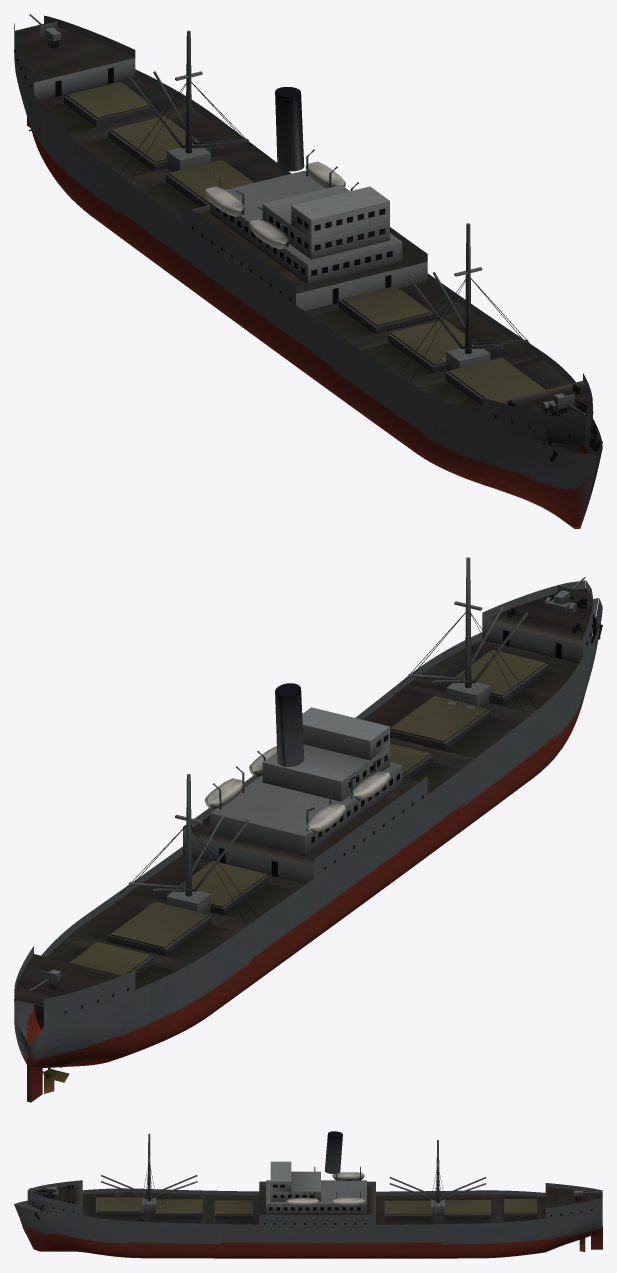
The model's file is model_built.glb.
3 renders of one model, top to bottom at view 1: azimuth 30°, elevation 25°; view 2: azimuth 150°, elevation 25°; view 3: azimuth 270°, elevation 25°, orthographic. The views are drawn at different scales.
Visible parts, largest first — view 1: main; view 2: main; view 3: main.
Boxes of the visible parts, x1,y1,x2,y2 form: main: (14,14,602,528); main: (14,557,602,1102); main: (14,1131,602,1258).
Size of the model in its own units: 17.22 by 28.4 by 128.
Materials: 1 (1 with a texture image).
